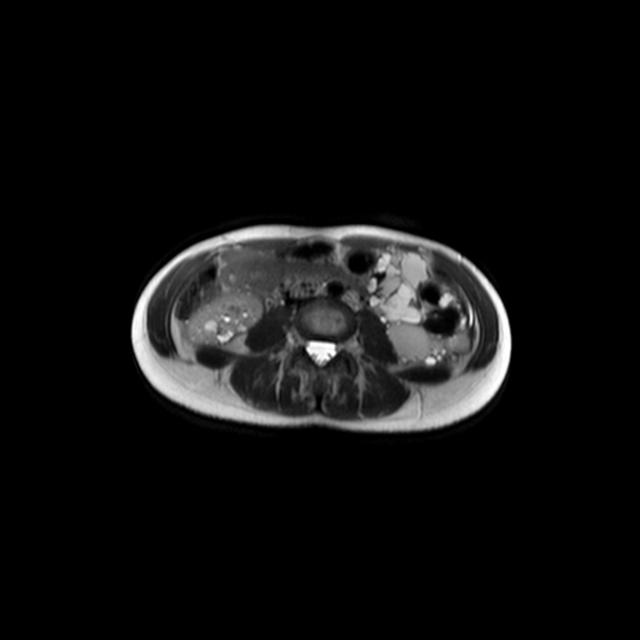sag: (182, 290, 264, 347)
sol: (371, 248, 473, 365)
